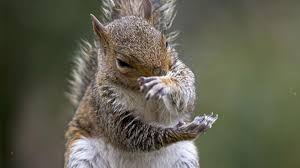Ardilla: (72, 1, 206, 168)
